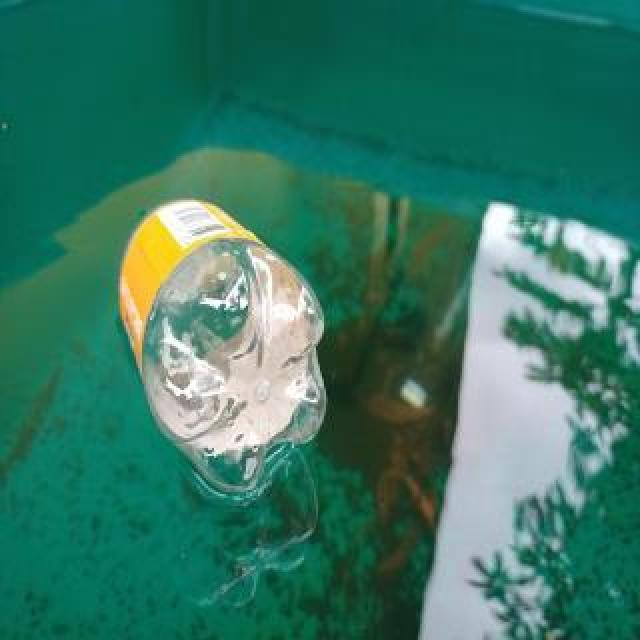Bottle: (116, 201, 330, 499)
